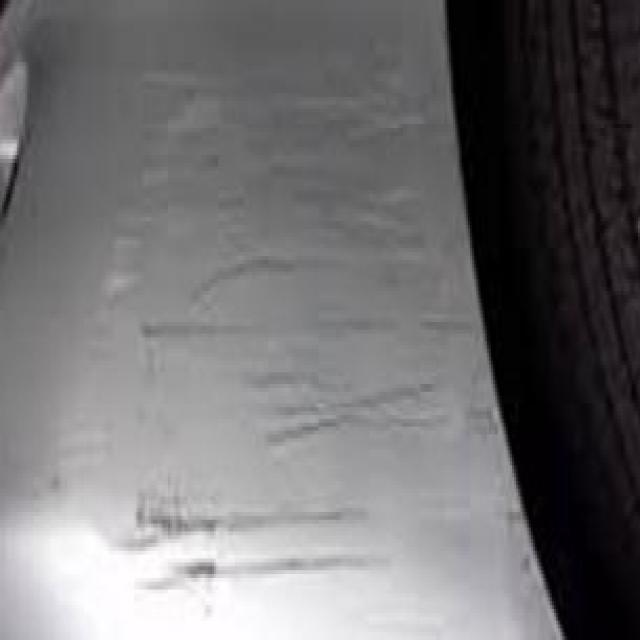scratch: (113, 95, 470, 576)
